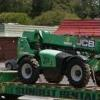Tractor: (15, 21, 100, 91)
